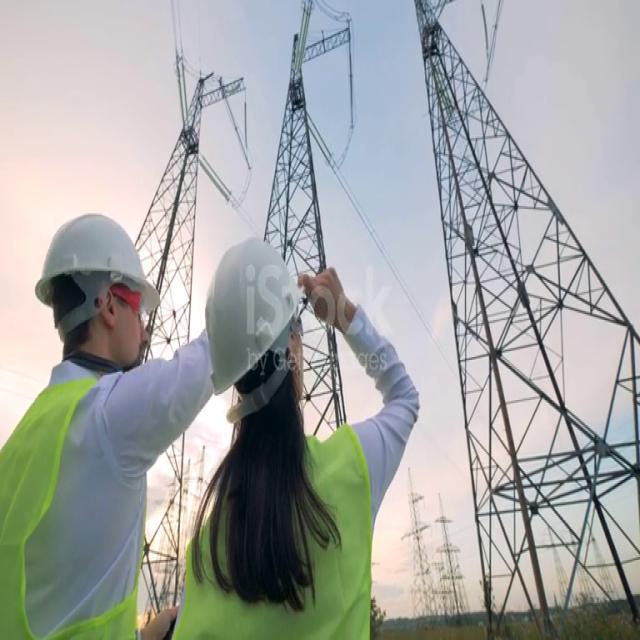capacete: (203, 228, 324, 408), (29, 202, 171, 322)
